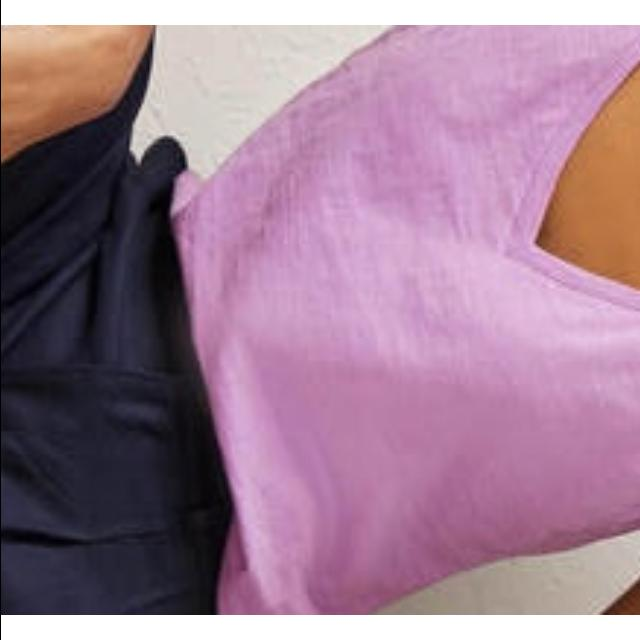cotton: (205, 25, 640, 615)
